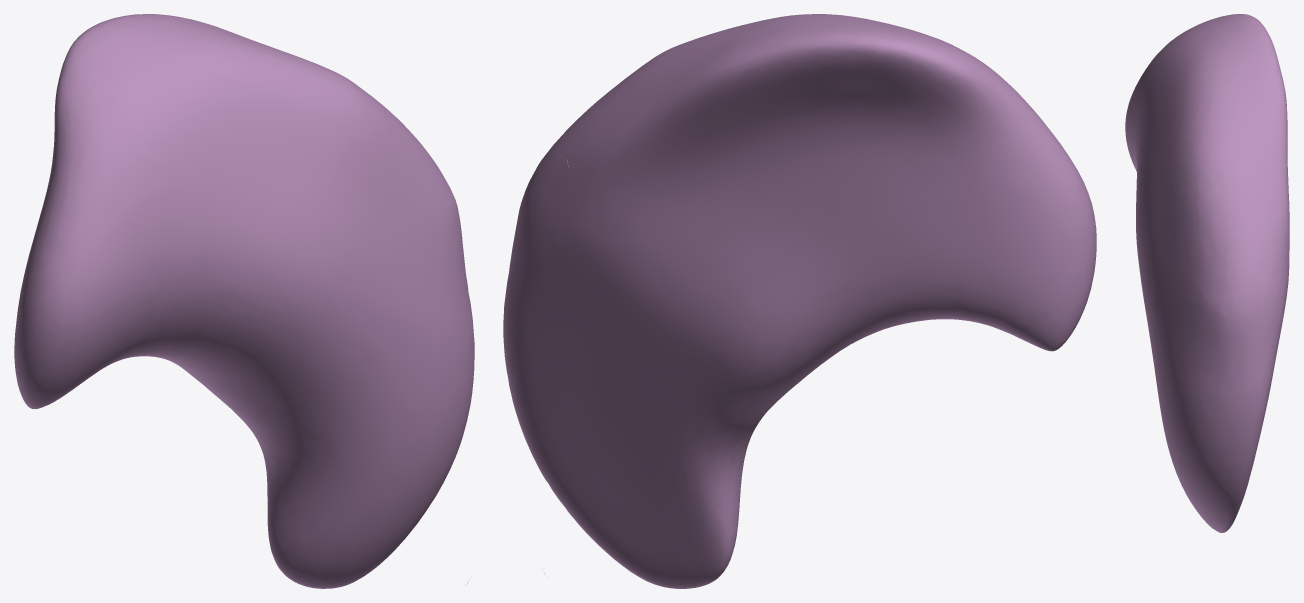
3 views of the same model, side by side, from view 1: azimuth 30°, elevation 25°; view 2: azimuth 150°, elevation 25°; view 3: azimuth 270°, elevation 25° (orthographic). The views are drawn at different scales.
Visible parts, largest first — view 1: 左侧上半月小叶; view 2: 左侧上半月小叶; view 3: 左侧上半月小叶.
Boxes of the visible parts, <box> form: 左侧上半月小叶: <box>14,14,474,588</box>; 左侧上半月小叶: <box>503,14,1096,588</box>; 左侧上半月小叶: <box>1125,14,1289,532</box>.
Size of the model in its own units: 0.0722 by 0.0862 by 0.0285.
